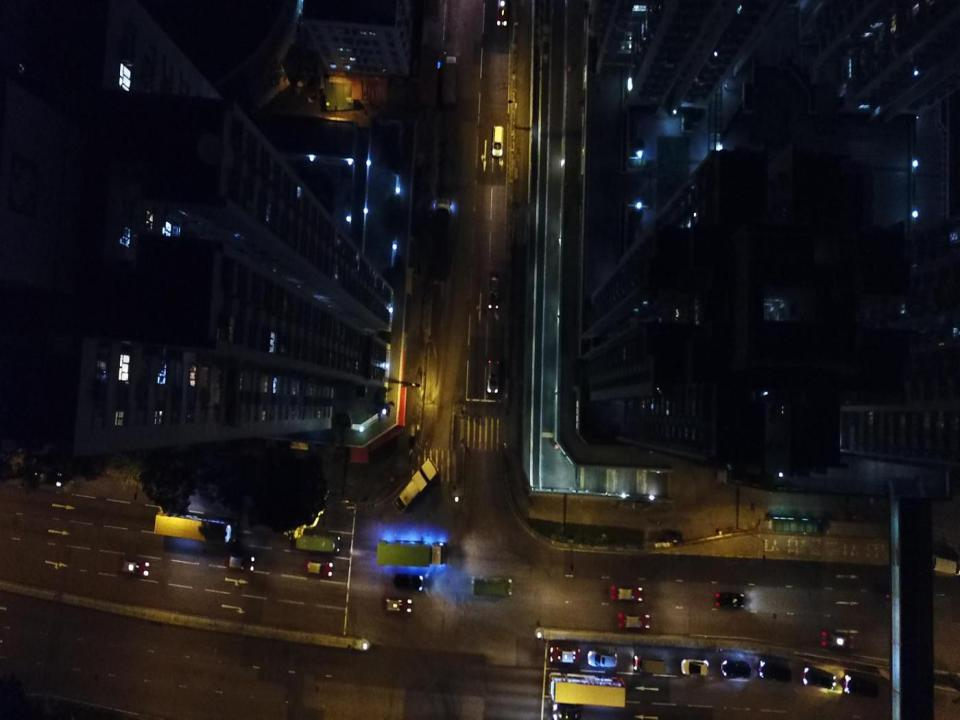bus: (154, 509, 239, 545), (548, 671, 627, 709), (295, 530, 342, 554), (470, 576, 513, 598)
car: (844, 673, 878, 698), (757, 658, 792, 682), (802, 665, 837, 689), (302, 558, 334, 578), (548, 645, 580, 665), (821, 630, 853, 650), (616, 612, 651, 630), (587, 649, 618, 669), (721, 659, 752, 679), (714, 591, 746, 610), (120, 558, 150, 578), (611, 584, 644, 602), (393, 572, 424, 591), (680, 657, 709, 677), (486, 357, 501, 394), (224, 554, 256, 571), (383, 597, 413, 613), (487, 275, 500, 311), (491, 124, 504, 157), (495, 0, 507, 26)
truck: (392, 457, 440, 514), (430, 196, 452, 282), (377, 540, 447, 567), (441, 56, 458, 104), (633, 654, 666, 676)
